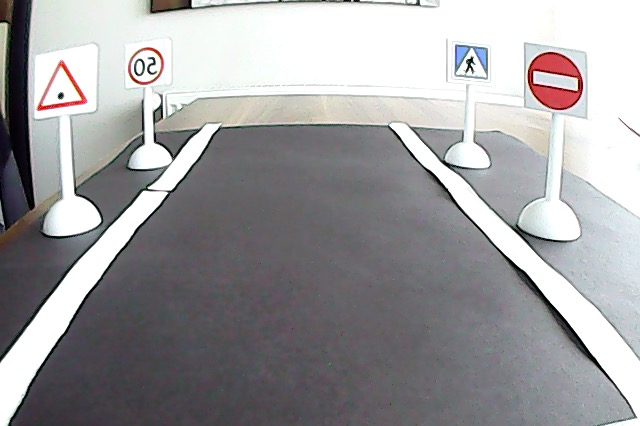do not enter: (53, 49, 115, 113)
green light: (550, 56, 605, 113)
pedestrian crossing: (148, 43, 189, 82)
speed limit 50: (472, 44, 517, 87)
